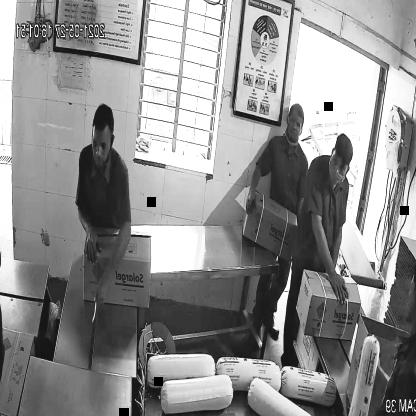no_goggles: (88, 133, 116, 157), (328, 150, 353, 176)
